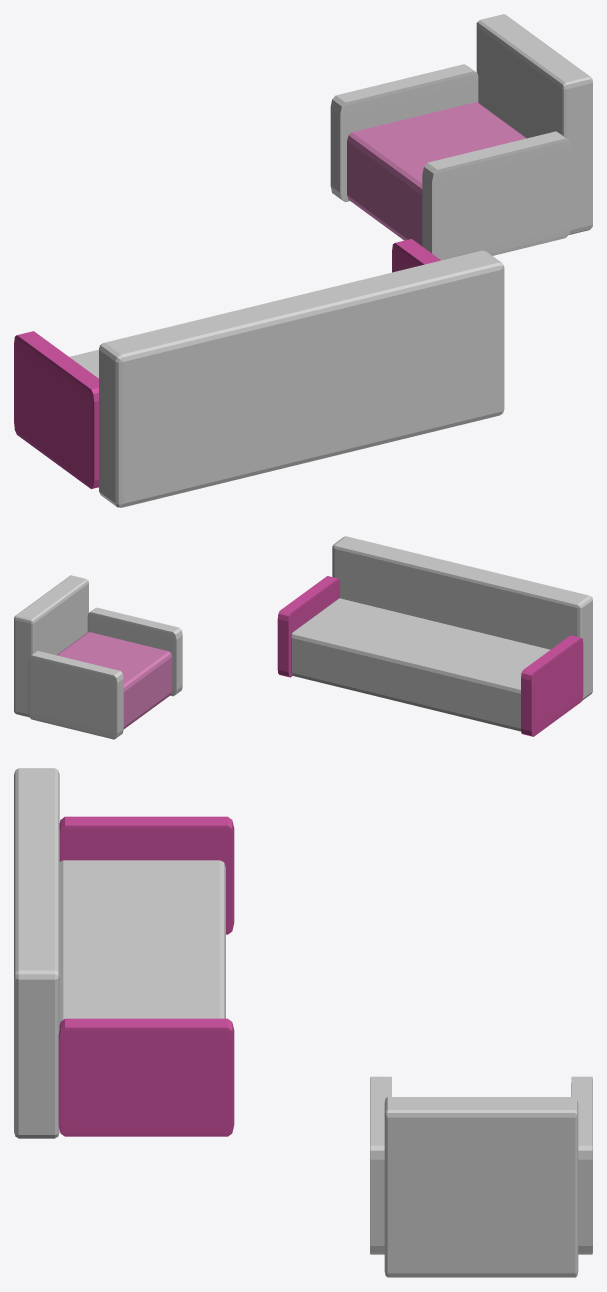
The model's file is Couch.fbx.
The picture shows the model from 3 angles, top to bottom: view 1: azimuth 30°, elevation 25°; view 2: azimuth 150°, elevation 25°; view 3: azimuth 270°, elevation 25°; orthographic projection. The views are drawn at different scales.
Parts seen in each view (by area): view 1: Couch.001, Couch.002; view 2: Couch.001, Couch.002; view 3: Couch.001, Couch.002.
Boxes of the visible parts, left/top/right/bottom form: Couch.001: left=14, top=239, right=504, bottom=507; Couch.002: left=330, top=14, right=592, bottom=260; Couch.001: left=277, top=536, right=592, bottom=736; Couch.002: left=14, top=575, right=182, bottom=739; Couch.001: left=14, top=768, right=234, bottom=1138; Couch.002: left=370, top=1076, right=592, bottom=1277.
Bounding box in the file's own units: 5.04 × 1.14 × 3.55.
